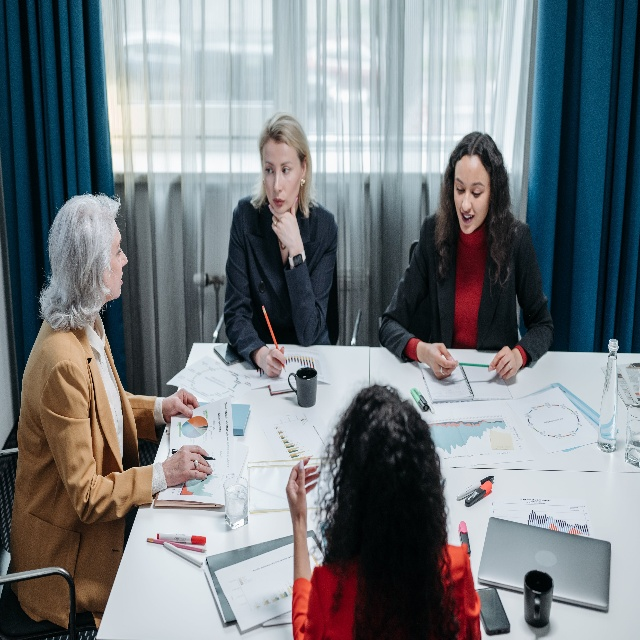Sin_guantes: (285, 455, 320, 524), (166, 445, 213, 487), (268, 197, 301, 251), (163, 387, 200, 426), (427, 341, 460, 380), (488, 345, 517, 380), (261, 346, 287, 379)
